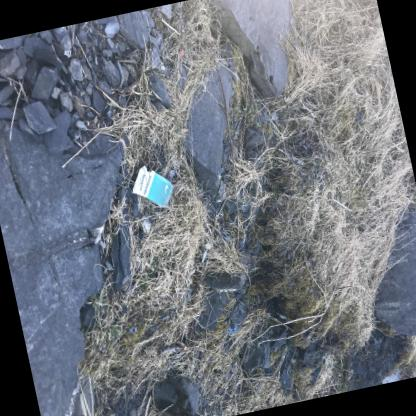Paper: (131, 165, 172, 207)
Plastic: (178, 49, 183, 56)
Waste: (227, 325, 236, 334), (200, 249, 206, 262), (205, 243, 210, 248), (216, 199, 221, 202)
